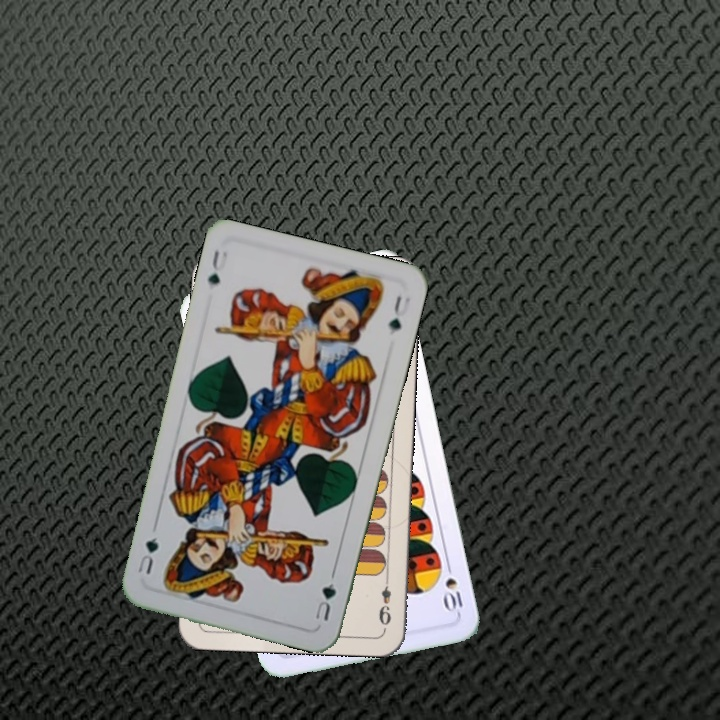E9: (374, 572, 393, 628)
GU: (311, 569, 339, 623), (204, 245, 230, 288)
S10: (440, 557, 467, 616)
